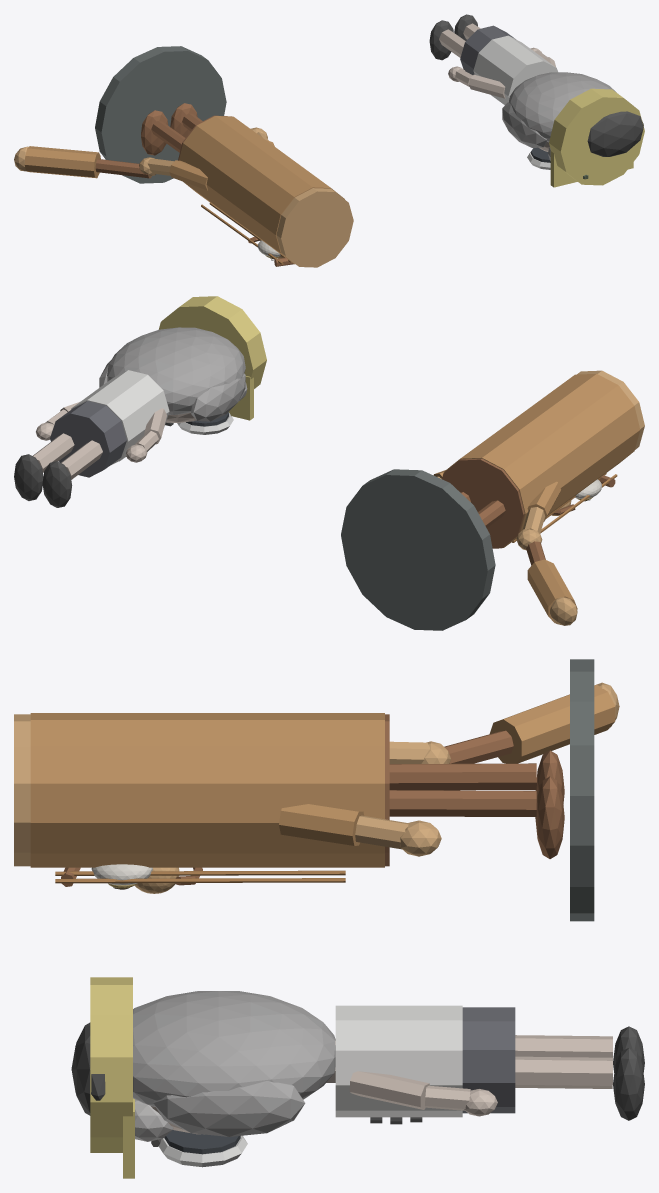
File: both_characters_lowpoly.glb
3 views of the same model, one above another, from view 1: azimuth 30°, elevation 25°; view 2: azimuth 150°, elevation 25°; view 3: azimuth 270°, elevation 25° (orthographic). The views are drawn at different scales.
Parts seen in each view (by area): view 1: wood_wooden_body_core, wood_display_base, chibi_cap_crown, wood_rounded_top, chibi_hair_back, chibi_tank_top_torso, chibi_cap_black_panel, wood_bat_barrel, chibi_shorts, chibi_left_hair_lock, wood_foot, wood_left_upper_arm (+7 smaller); view 2: wood_display_base, wood_wooden_body_core, chibi_hair_back, chibi_cap_crown, wood_bottom_rim, chibi_tank_top_torso, chibi_shorts, chibi_left_hair_lock, wood_bat_barrel, chibi_shoe, chibi_shoe_1, chibi_leg (+6 smaller); view 3: wood_wooden_body_core, chibi_hair_back, chibi_tank_top_torso, chibi_cap_crown, wood_display_base, chibi_right_hair_lock, chibi_shorts, wood_bat_barrel, wood_leg, wood_leg_1, chibi_leg_1, wood_right_upper_arm (+19 smaller).
Boxes of the visible parts, left/top/right/bottom form: wood_wooden_body_core: left=179, top=116, right=344, bottom=264; wood_display_base: left=95, top=46, right=226, bottom=183; chibi_cap_crown: left=549, top=88, right=644, bottom=185; wood_rounded_top: left=276, top=188, right=353, bottom=267; chibi_hair_back: left=509, top=72, right=616, bottom=142; chibi_tank_top_torso: left=473, top=35, right=557, bottom=104; chibi_cap_black_panel: left=587, top=111, right=643, bottom=156; wood_bat_barrel: left=24, top=146, right=100, bottom=178; chibi_shorts: left=460, top=25, right=515, bottom=74; chibi_left_hair_lock: left=502, top=102, right=546, bottom=147; wood_foot: left=141, top=110, right=168, bottom=155; wood_left_upper_arm: left=169, top=160, right=207, bottom=190; wood_display_base: left=341, top=469, right=495, bottom=630; wood_wooden_body_core: left=444, top=373, right=640, bottom=547; chibi_hair_back: left=107, top=327, right=245, bottom=414; chibi_cap_crown: left=159, top=296, right=266, bottom=388; wood_bottom_rim: left=442, top=458, right=524, bottom=548; chibi_tank_top_torso: left=71, top=370, right=169, bottom=465; chibi_shorts: left=50, top=401, right=126, bottom=477; chibi_left_hair_lock: left=191, top=373, right=245, bottom=421; wood_bat_barrel: left=527, top=559, right=577, bottom=623; chibi_shoe: left=42, top=461, right=72, bottom=507; chibi_shoe_1: left=14, top=454, right=43, bottom=500; chibi_leg: left=61, top=440, right=102, bottom=479; wood_wooden_body_core: left=30, top=713, right=384, bottom=867; chibi_hair_back: left=133, top=991, right=335, bottom=1106; chibi_tank_top_torso: left=335, top=1005, right=462, bottom=1117; chibi_cap_crown: left=90, top=977, right=132, bottom=1152; wood_display_base: left=570, top=659, right=594, bottom=921; chibi_right_hair_lock: left=153, top=1081, right=305, bottom=1136; chibi_shorts: left=462, top=1007, right=515, bottom=1113; wood_bat_barrel: left=489, top=684, right=615, bottom=763; wood_leg: left=389, top=763, right=536, bottom=790; wood_leg_1: left=389, top=790, right=536, bottom=816; chibi_leg_1: left=515, top=1056, right=612, bottom=1088; wood_right_upper_arm: left=279, top=804, right=364, bottom=845.
Size of the model in its own units: 7.81 by 1.96 by 4.72.
